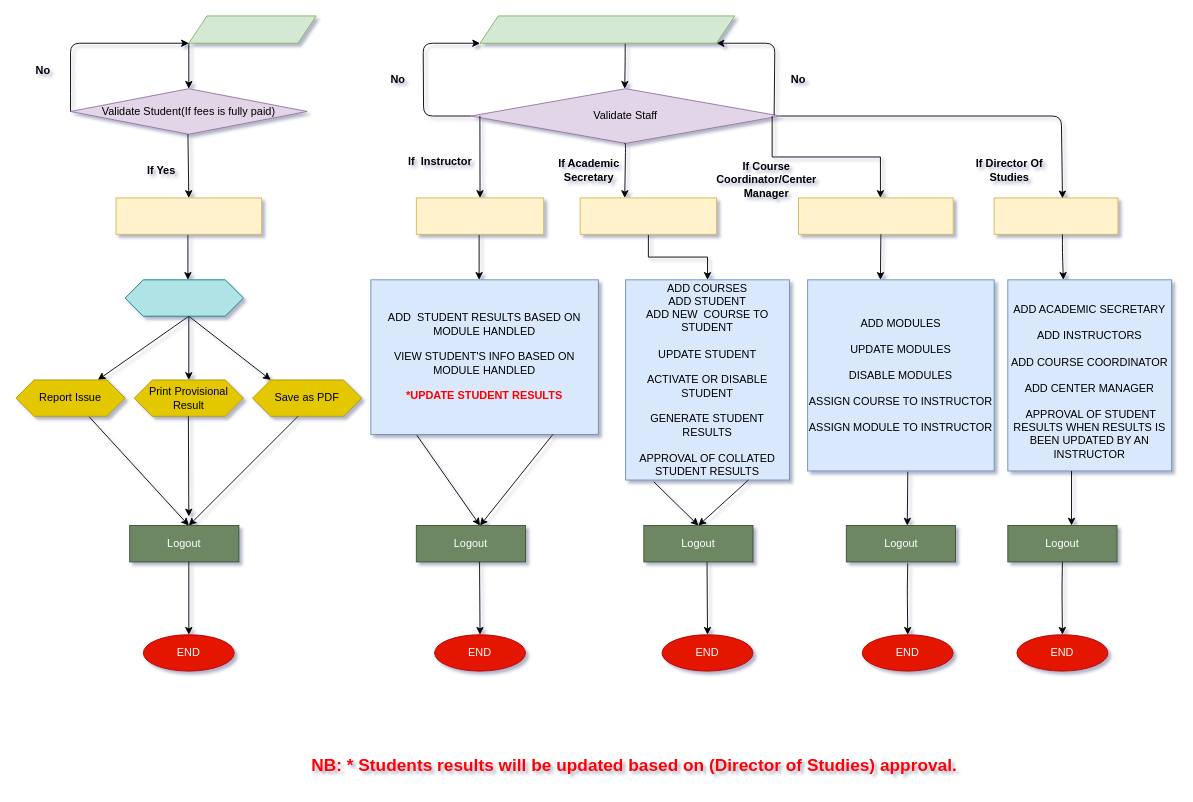
Image size: 1193x802. Some labels were removed from this diagram. Each missing label, with the centre of its shape:
"Access Academic Secretary Roles" belongs at point 648,215.
"Access Course Coordinator/Center Manager Roles" belongs at point 875,215.
"Access Director of Studies Roles" belongs at point 1055,215.
"Access Instructor Roles" belongs at point 479,215.
"Access Module Results Currently Undertaken" belongs at point 188,215.
"Perform Action(s)" belongs at point 183,297.
"Staff Login" belongs at point 607,29.
"Student Login" belongs at point 252,29.
